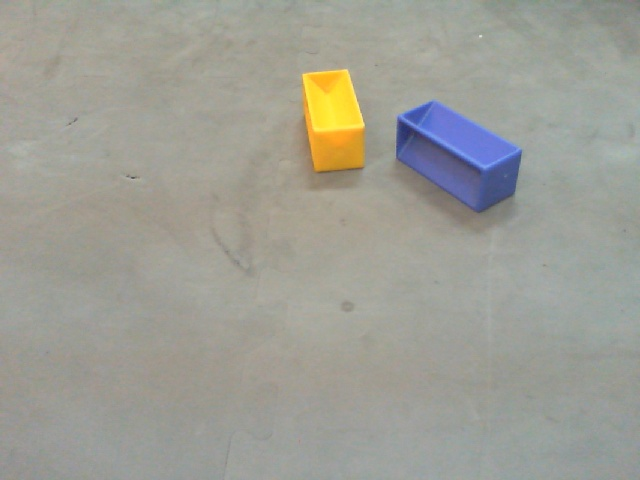BlueSample: (394, 96, 522, 215)
YellowSample: (296, 69, 367, 172)
